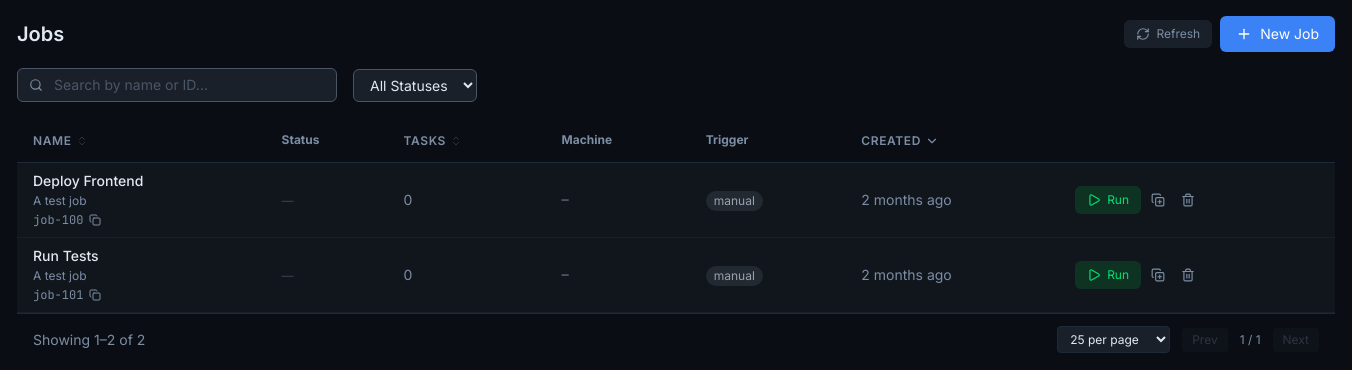
Test case: JobsPage › filters jobs by search query
The width and height of the screenshot is (1352, 370).
Check: the text "Deploy Frontend" is shown, box [33,172,143,189]
# Type in the search input to filter
Type "Deploy" into the field with placeholder "Search by name or ID..." at (177, 85), box [17,68,337,102]
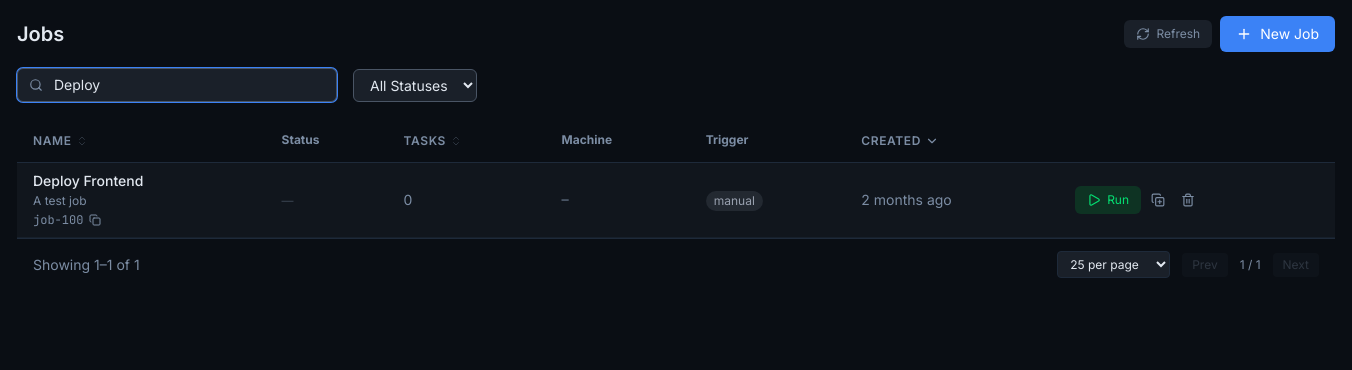
Check: the text "Deploy Frontend" is shown, box [33,172,143,189]
Check: the text "Run Tests" is gone
